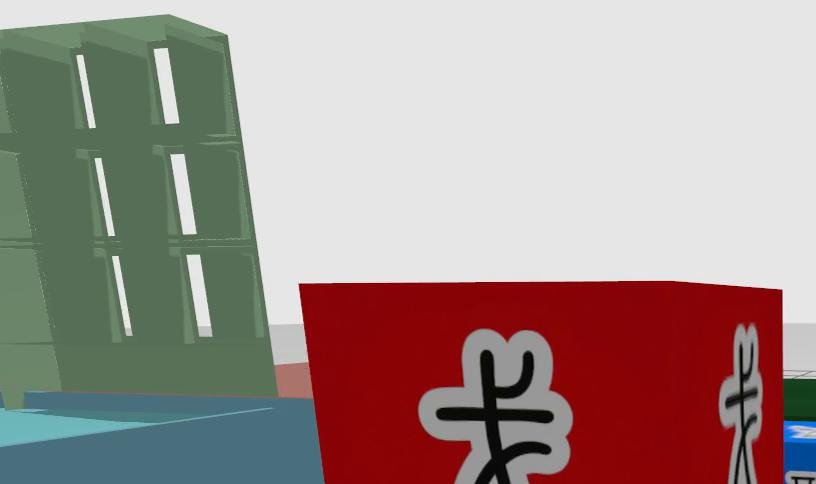KFS_FAKE: (301, 281, 783, 484), (418, 329, 573, 484), (720, 325, 764, 484)
KFS_REAL: (782, 420, 816, 484)
